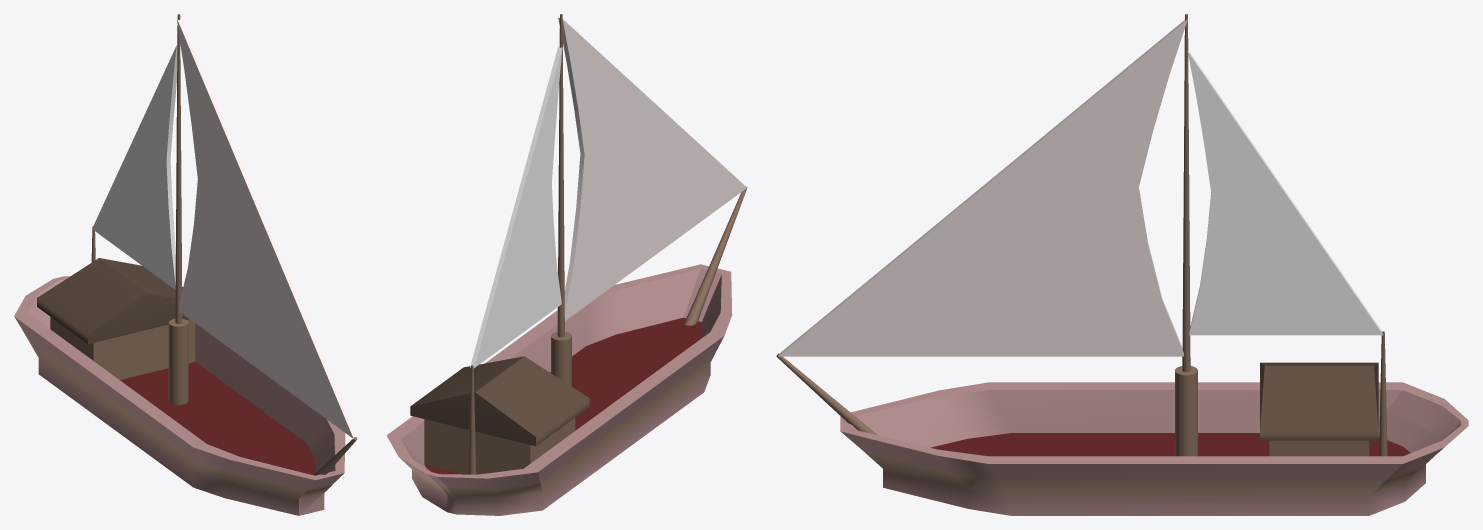
Rendered from Boat2.fbx.
3 renders of one model, left to right at view 1: azimuth 30°, elevation 25°; view 2: azimuth 150°, elevation 25°; view 3: azimuth 270°, elevation 25°, orthographic. The views are drawn at different scales.
Visible parts, largest first — view 1: boat2; view 2: boat2; view 3: boat2.
Boxes of the visible parts, x1,y1,x2,y2 form: boat2: (14, 14, 357, 515); boat2: (386, 14, 747, 515); boat2: (776, 14, 1468, 515).
Size of the model in its own units: 150 by 397 by 535.
